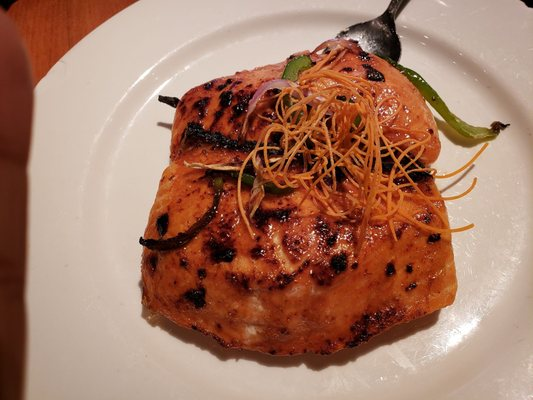curry: (5, 1, 524, 400)
